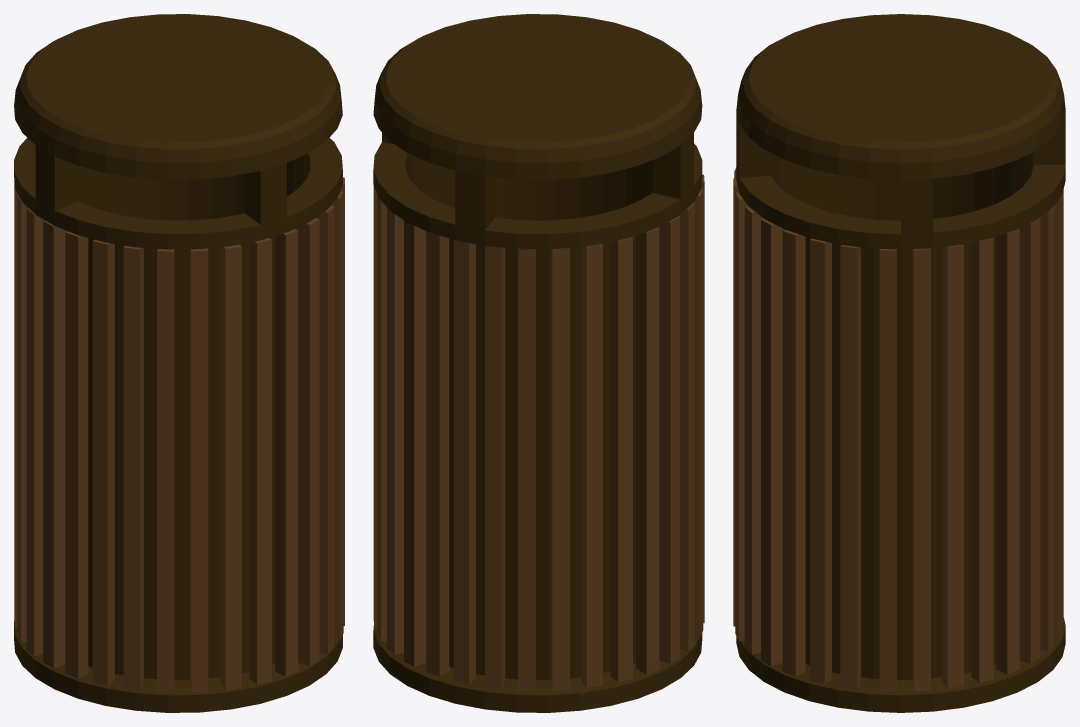
Rendered from Outdoor_Thrash_Can.glb.
3 views of the same model, side by side, from view 1: azimuth 30°, elevation 25°; view 2: azimuth 150°, elevation 25°; view 3: azimuth 270°, elevation 25° (orthographic).
Visible parts, largest first — view 1: Cylinder; view 2: Cylinder; view 3: Cylinder.
Part boxes in pixels (x1=…): Cylinder: x1=14, y1=14, x2=344, y2=712; Cylinder: x1=373, y1=14, x2=704, y2=712; Cylinder: x1=733, y1=14, x2=1065, y2=712.
Bounding box in the file's own units: 0.216 × 0.4072 × 0.2172.
Materials: 1 (1 with a texture image).
